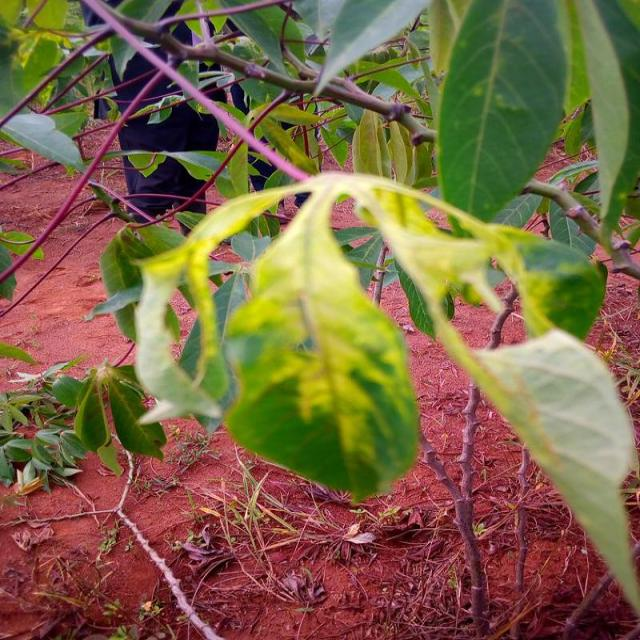cassava leaf: (219, 208, 419, 502), (471, 326, 638, 616), (435, 0, 571, 238)
